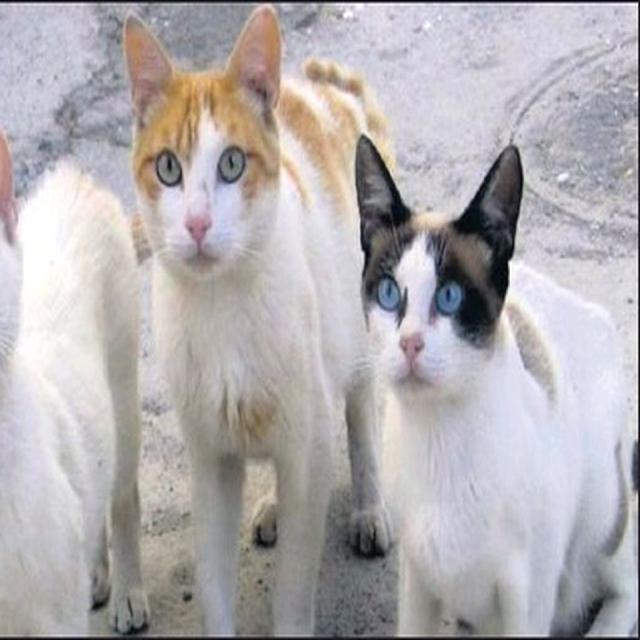cat: (124, 6, 392, 636), (355, 137, 635, 636), (0, 135, 149, 635)
